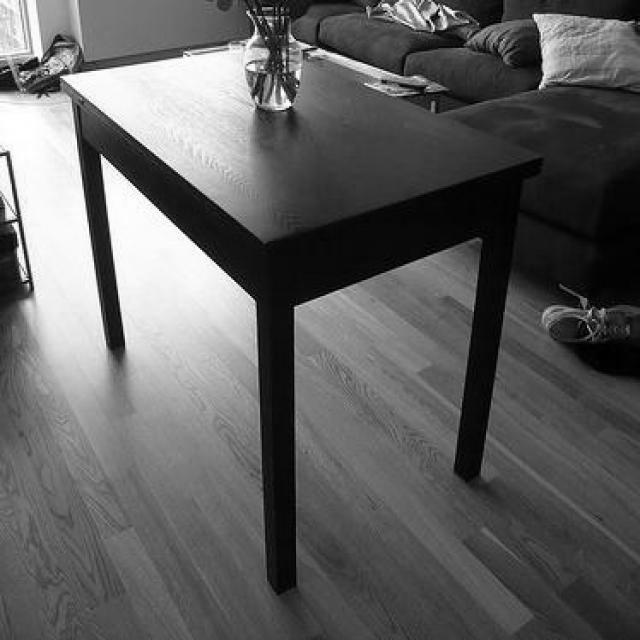table: (56, 38, 543, 594)
